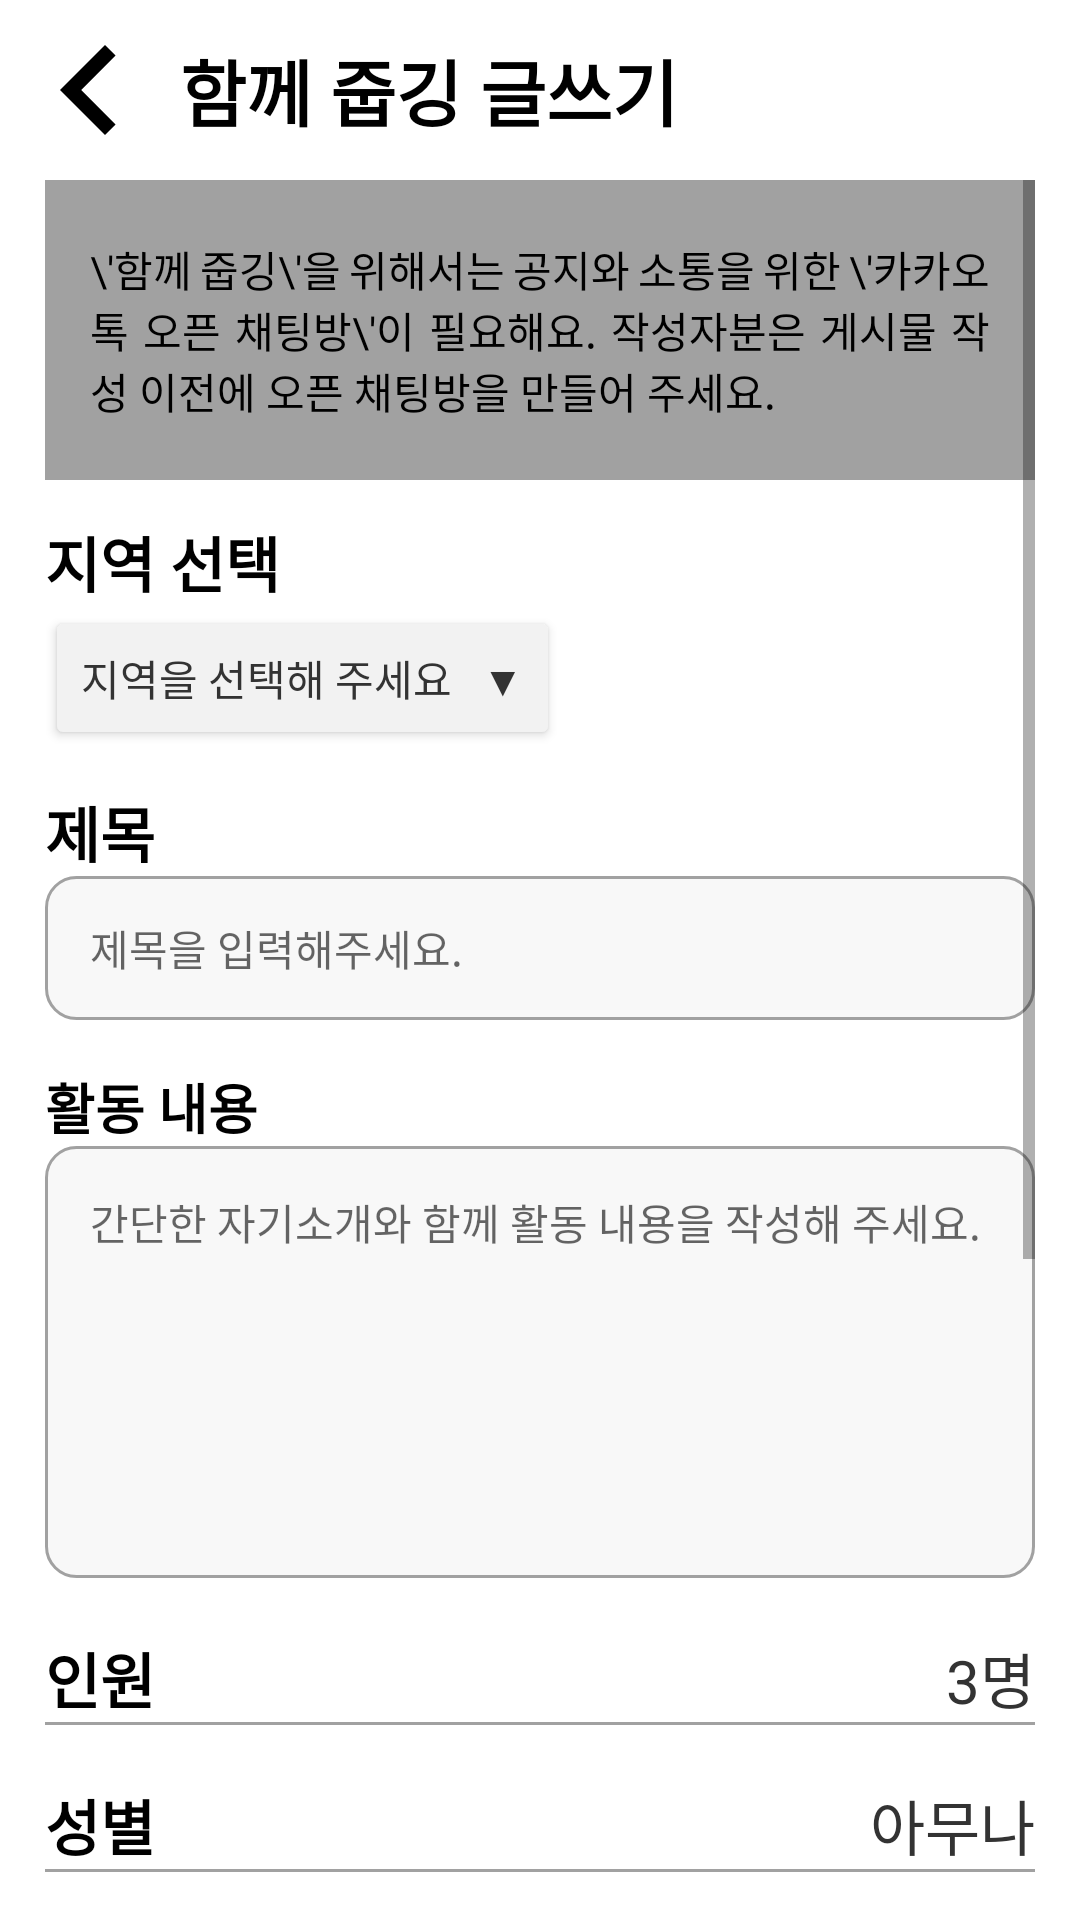

Named icons in this screenshot (1080w x 1920h) and their bounding boxes, (x1, y1, x2, y2):
chevron left: (60, 45, 116, 135)
